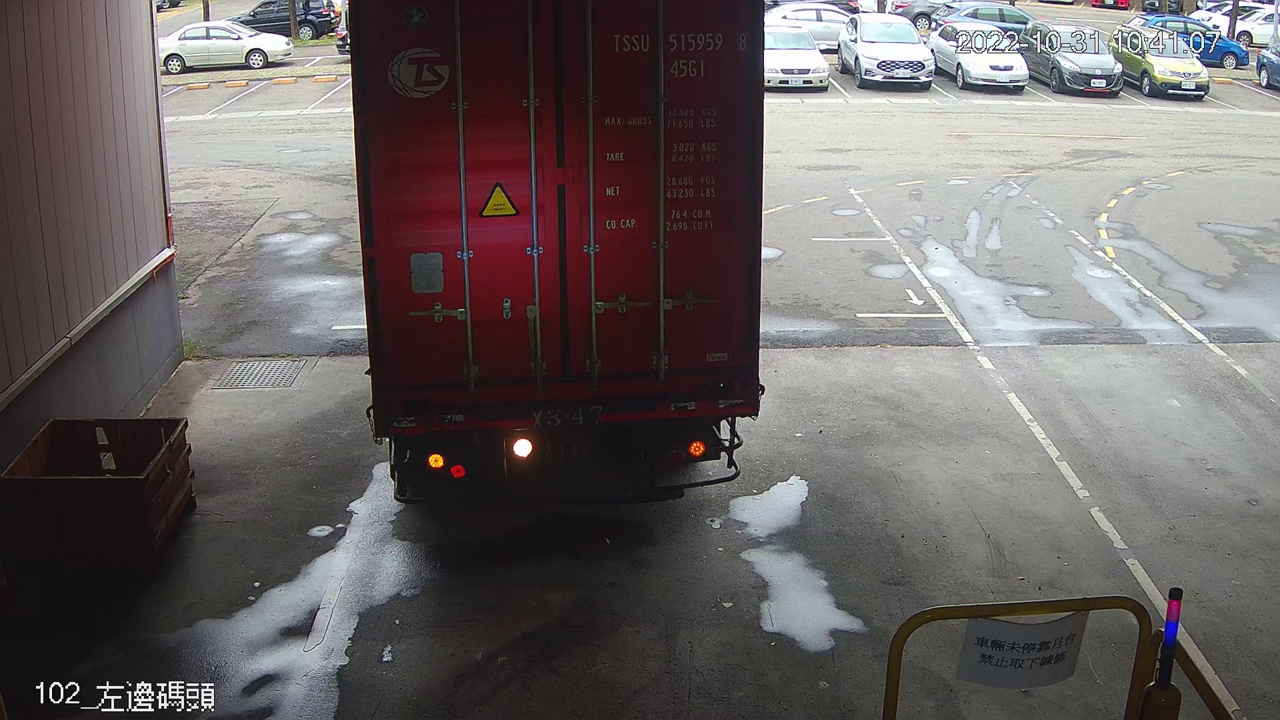container: (607, 26, 753, 85)
